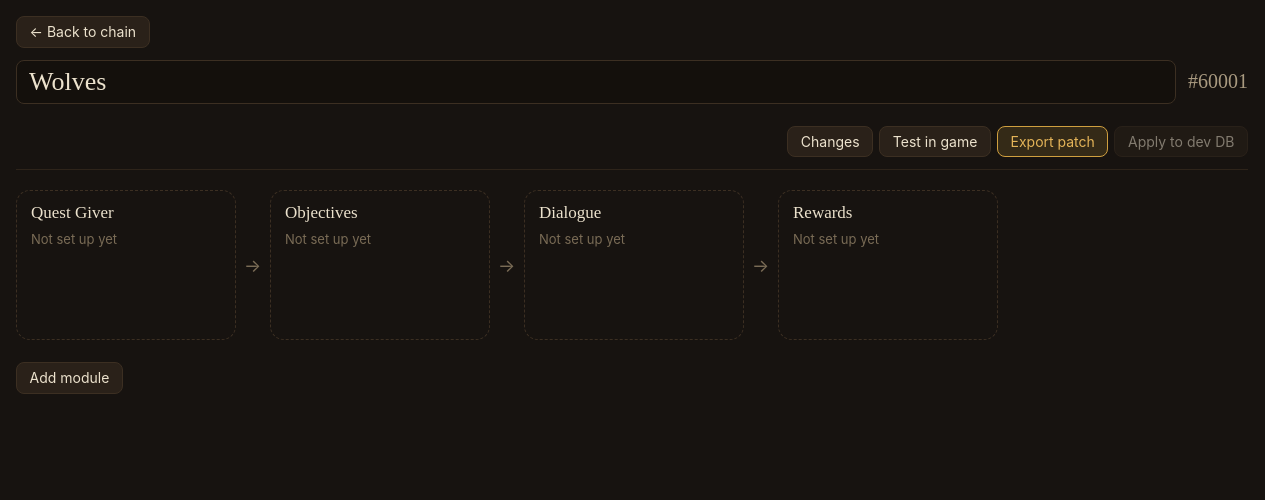
Test case: Export › says when the quest needs the project patch, and exports it from there
Click the button "Export patch" at coordinates (1053, 141), box top-left (997, 126), bottom-right (1108, 157)
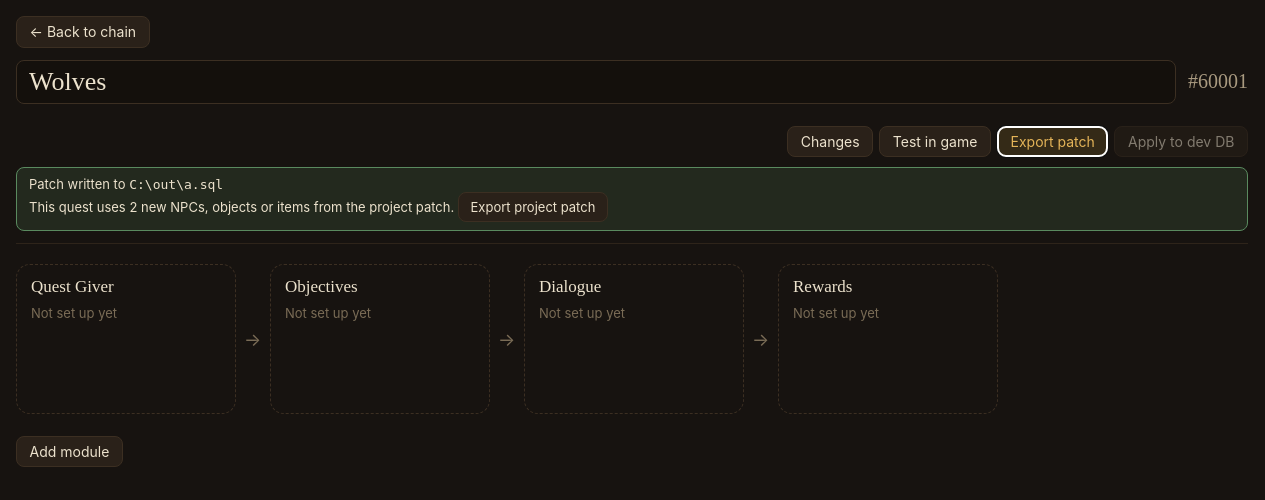
Expected: the text "This quest uses 2 new NPCs, objects or items from the project patch." is shown, top-left (29, 192), bottom-right (608, 222)
Click the button "Export project patch" at coordinates (533, 207), box top-left (458, 192), bottom-right (608, 222)
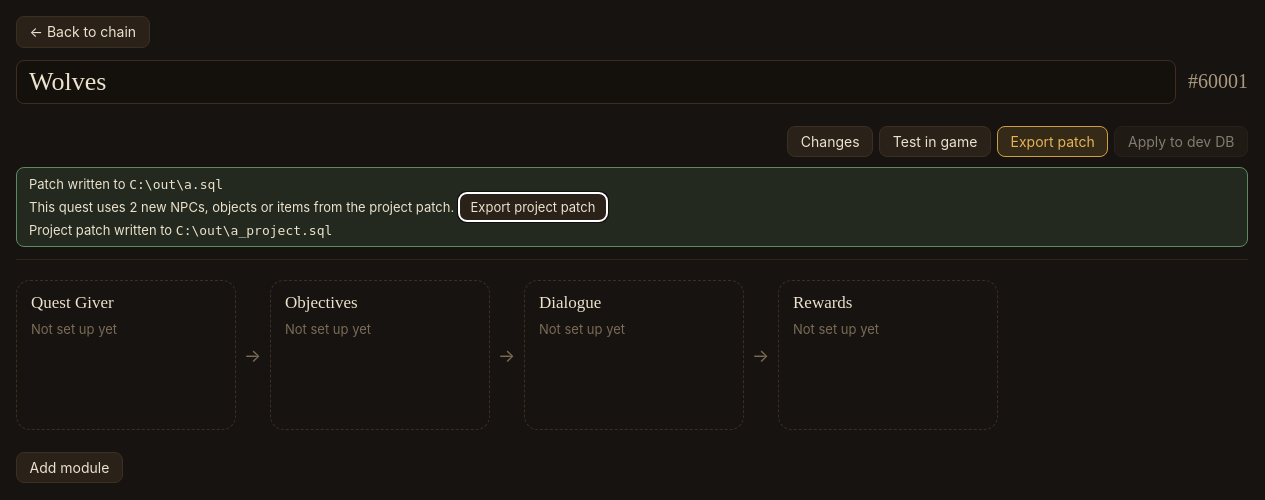
Expected: the text "C:\\out\\a_project.sql" is shown, top-left (176, 223), bottom-right (332, 238)
